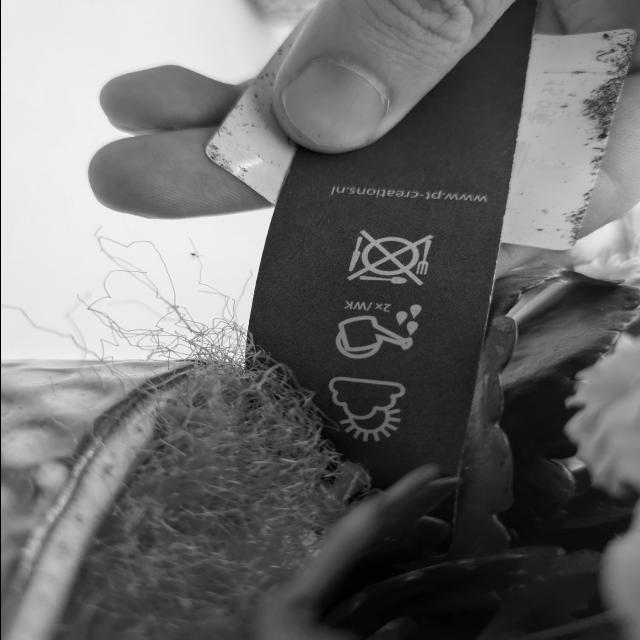halb sonnig schattig: (323, 368, 428, 442)
viel giesen: (318, 296, 432, 361)
